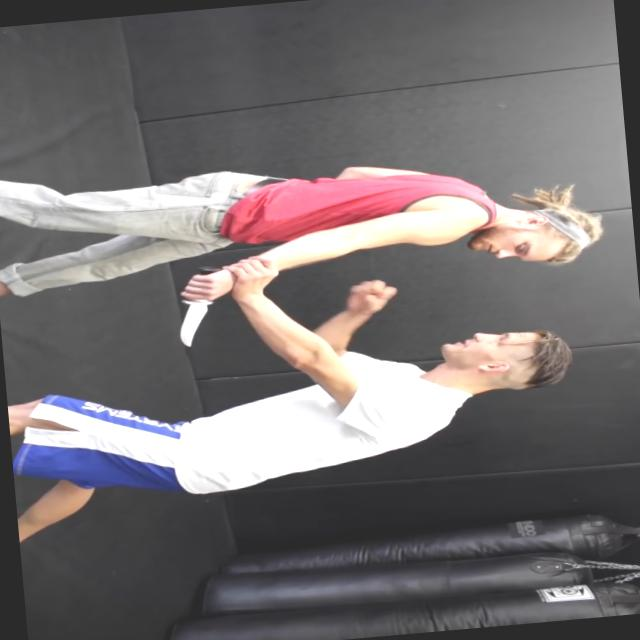knife: (160, 260, 227, 352)
